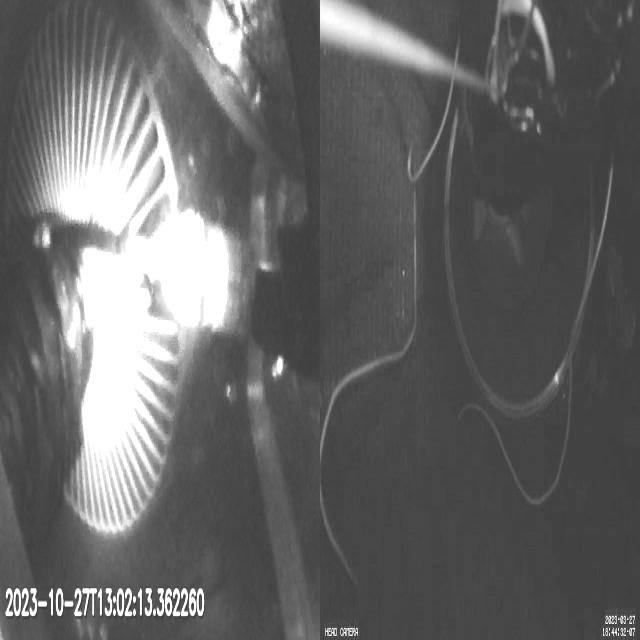head: (158, 211, 256, 338)
